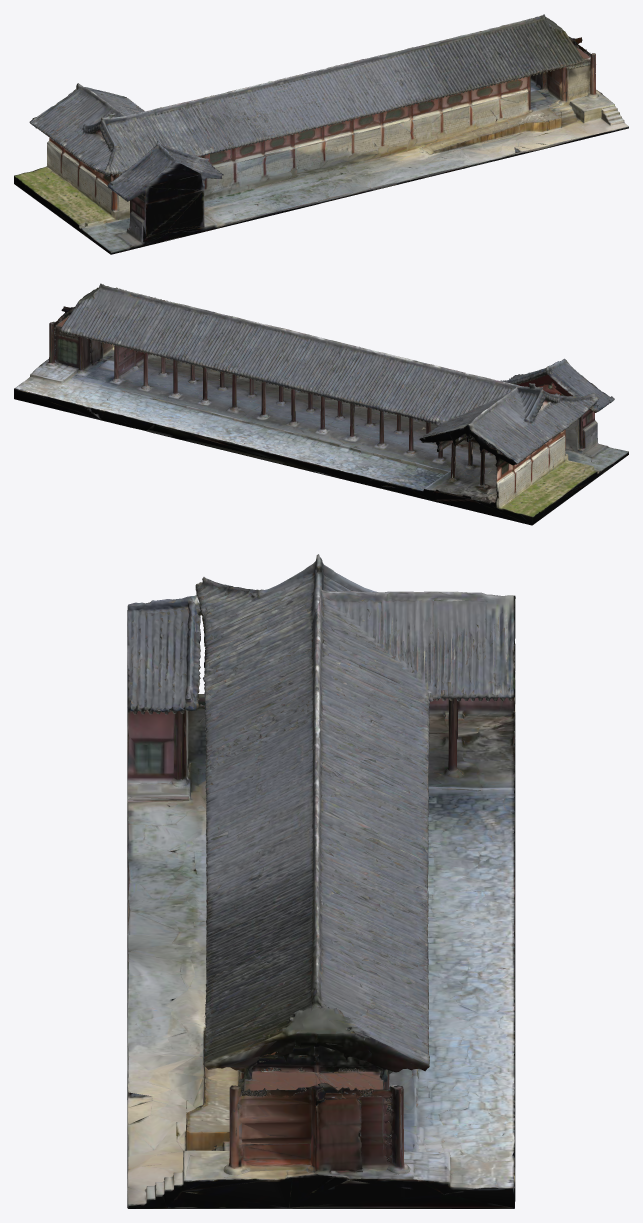
File: seowollang.glb
3 renders of one model, top to bottom at view 1: azimuth 30°, elevation 25°; view 2: azimuth 150°, elevation 25°; view 3: azimuth 270°, elevation 25°, orthographic. The views are drawn at different scales.
Parts seen in each view (by area): view 1: GJM_W_WR_L; view 2: GJM_W_WR_L; view 3: GJM_W_WR_L.
Boxes of the visible parts, x1,y1,x2,y2 form: GJM_W_WR_L: (14,14,628,254); GJM_W_WR_L: (14,283,628,525); GJM_W_WR_L: (127,554,515,1208).
Bounding box in the file's own units: 0.5405 × 0.0944 × 0.175.
1 material, 1 textured.
